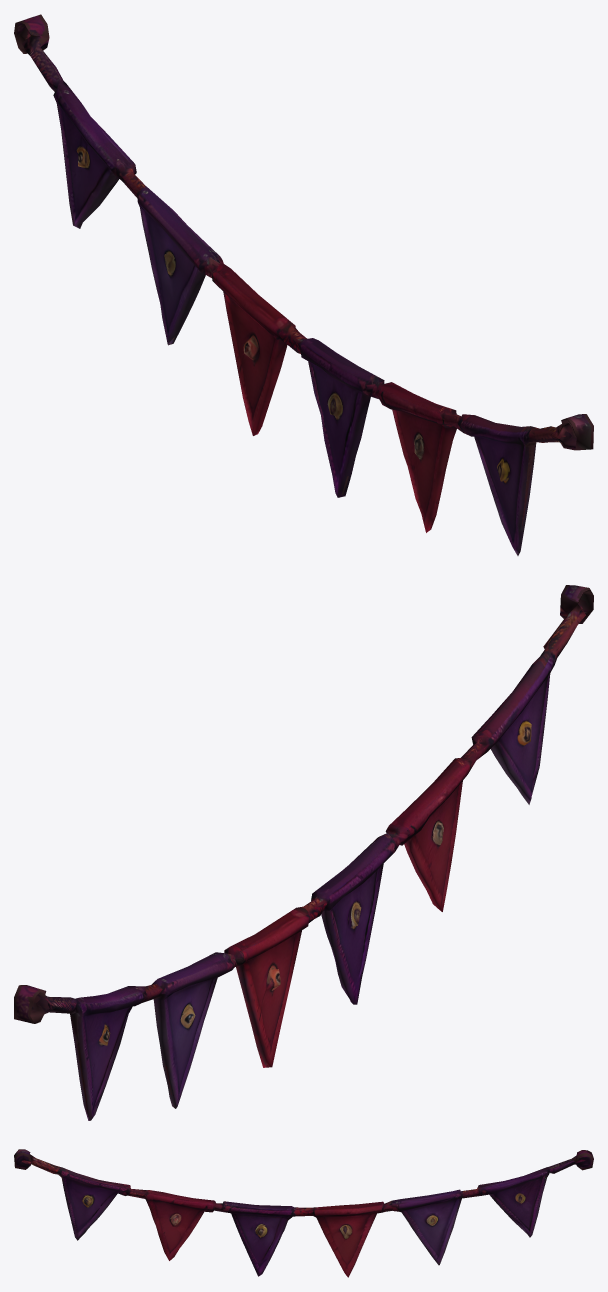
The model's file is cuerda+con+banderitas.obj.
3 views of the same model, one above another, from view 1: azimuth 30°, elevation 25°; view 2: azimuth 150°, elevation 25°; view 3: azimuth 270°, elevation 25° (orthographic). The views are drawn at different scales.
Visible parts, largest first — view 1: tripo_node_4d93c7f0-8e95-43f4-8e02-7fc8d02cfef7; view 2: tripo_node_4d93c7f0-8e95-43f4-8e02-7fc8d02cfef7; view 3: tripo_node_4d93c7f0-8e95-43f4-8e02-7fc8d02cfef7.
Part boxes in pixels (bbox=[...]): tripo_node_4d93c7f0-8e95-43f4-8e02-7fc8d02cfef7: bbox=[14, 14, 593, 555]; tripo_node_4d93c7f0-8e95-43f4-8e02-7fc8d02cfef7: bbox=[14, 585, 593, 1120]; tripo_node_4d93c7f0-8e95-43f4-8e02-7fc8d02cfef7: bbox=[14, 1149, 593, 1277].
Bounding box in the file's own units: 0.0297 × 0.2429 × 0.9993.
1 material, 1 textured.
